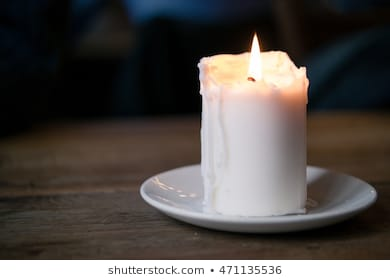Fire: (242, 29, 265, 81)
